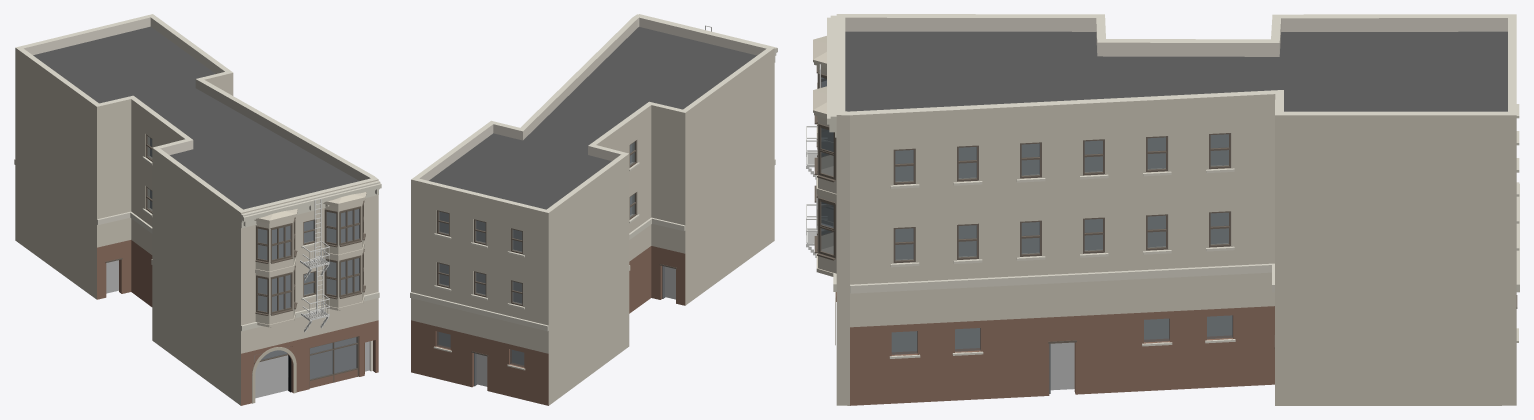
The model's file is exterior.glb.
The picture shows the model from 3 angles, left to right: view 1: azimuth 30°, elevation 25°; view 2: azimuth 150°, elevation 25°; view 3: azimuth 270°, elevation 25°; orthographic projection. The views are drawn at different scales.
Parts seen in each view (by area): view 1: shell, roof, shadow-proxy, bay-glazing-hyb, bay-windows-hyb, trim, glazing, fire-escape, storefront, hyC-arches-9, frames; view 2: shell, roof, shadow-proxy, trim, glazing, frames; view 3: shell, roof, shadow-proxy, glazing, trim, frames, bay-windows-hyb, bay-glazing-hyb, fire-escape.
Boxes of the visible parts, <box> form: shell: <box>15,14,378,405</box>; roof: <box>33,26,359,209</box>; shadow-proxy: <box>106,138,369,398</box>; bay-glazing-hyb: <box>255,200,365,315</box>; bay-windows-hyb: <box>254,192,366,327</box>; trim: <box>14,156,381,331</box>; glazing: <box>147,136,357,379</box>; fire-escape: <box>300,198,329,332</box>; storefront: <box>105,258,364,392</box>; hyC-arches-9: <box>252,346,296,403</box>; frames: <box>145,134,315,297</box>; shell: <box>411,14,774,405</box>; roof: <box>429,27,756,209</box>; shadow-proxy: <box>439,144,675,386</box>; trim: <box>410,14,777,370</box>; glazing: <box>436,142,634,366</box>; frames: <box>437,140,636,306</box>; shell: <box>836,14,1516,405</box>; roof: <box>845,31,1507,111</box>; shadow-proxy: <box>892,134,1231,390</box>; glazing: <box>891,134,1232,354</box>; trim: <box>827,15,1519,358</box>; frames: <box>893,133,1230,263</box>; bay-windows-hyb: <box>813,36,836,276</box>; bay-glazing-hyb: <box>814,66,835,260</box>; fire-escape: <box>806,64,826,257</box>.
Size of the model in its own units: 9.25 by 12.22 by 27.19.
